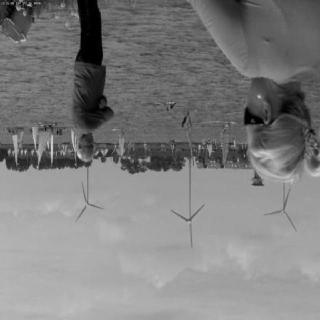other: (241, 104, 313, 192), (66, 61, 118, 143)
